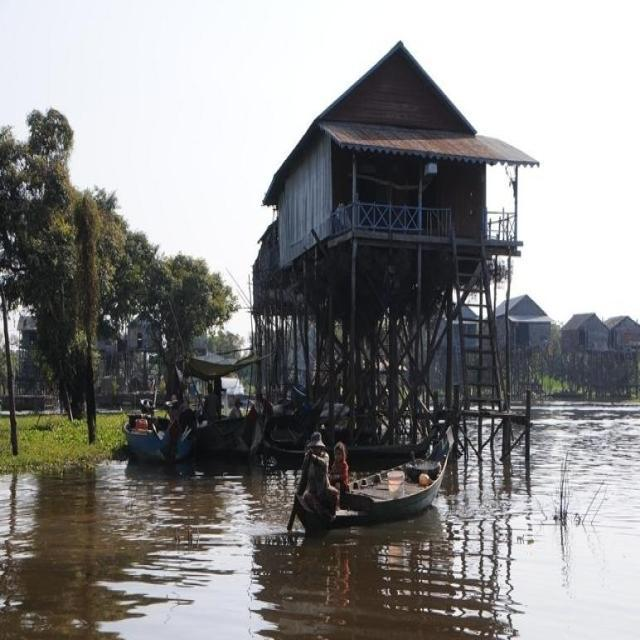boat: (308, 446, 462, 532), (116, 397, 186, 468)
